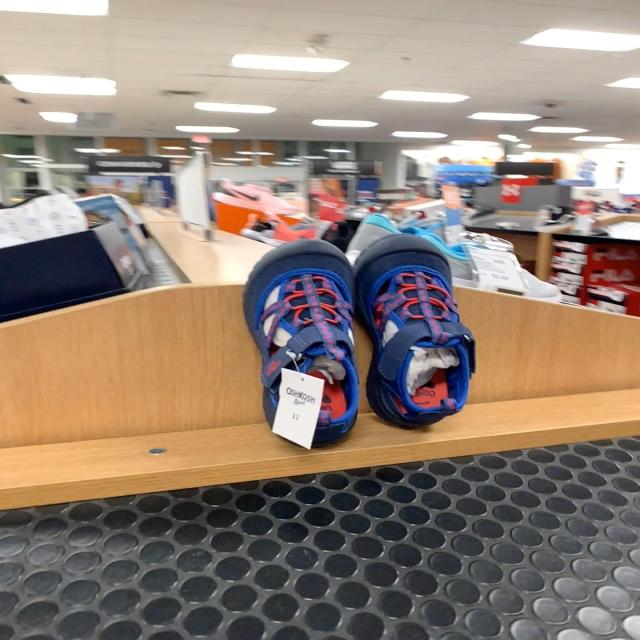shoe: (244, 241, 361, 449), (355, 236, 477, 429)
